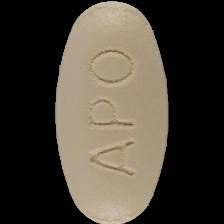58118-0052: (0, 0, 224, 224)
